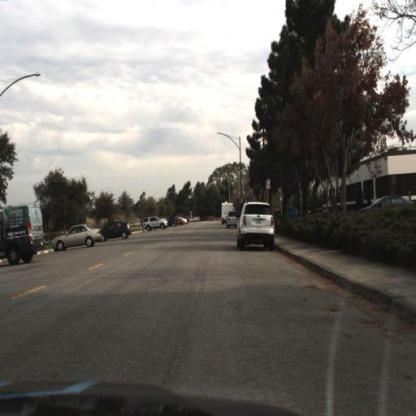car: (0, 202, 46, 266), (235, 199, 277, 249), (49, 222, 103, 253), (358, 192, 416, 214), (100, 221, 133, 244), (104, 220, 132, 242), (137, 212, 168, 231)
